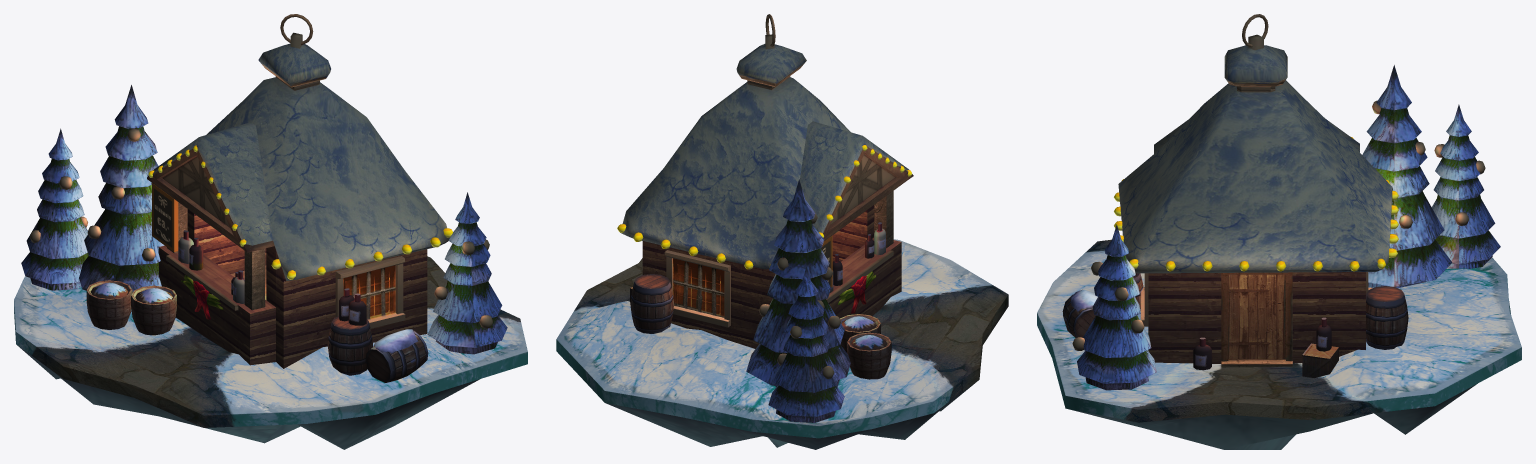
File: house.obj
3 renders of one model, left to right at view 1: azimuth 30°, elevation 25°; view 2: azimuth 150°, elevation 25°; view 3: azimuth 270°, elevation 25°, orthographic. The views are drawn at different scales.
Parts seen in each view (by area): view 1: House, Ground, Extras; view 2: House, Ground, Extras; view 3: House, Ground, Extras.
Boxes of the visible parts, bbox=[...] form: House: bbox=[30, 14, 492, 368]; Ground: bbox=[14, 256, 527, 449]; Extras: bbox=[21, 85, 507, 382]; House: bbox=[617, 14, 913, 378]; Ground: bbox=[556, 239, 1008, 449]; Extras: bbox=[630, 179, 891, 422]; House: bbox=[1072, 14, 1485, 367]; Ground: bbox=[1037, 239, 1521, 449]; Extras: bbox=[1062, 65, 1500, 390].
Bounding box in the file's own units: 444 × 470 × 464.
